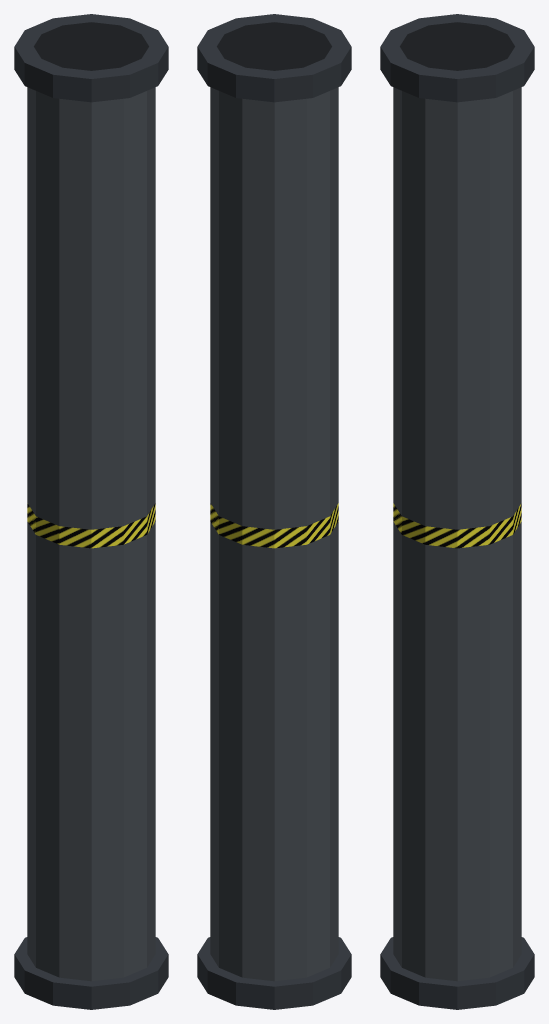
Rendered from Pipe_0.25x2.fbx.
The picture shows the model from 3 angles, left to right: view 1: azimuth 30°, elevation 25°; view 2: azimuth 150°, elevation 25°; view 3: azimuth 270°, elevation 25°; orthographic projection.
Parts seen in each view (by area): view 1: Pipe_0.25x2; view 2: Pipe_0.25x2; view 3: Pipe_0.25x2.
Part boxes in pixels (x1,y1,x2,y2): Pipe_0.25x2: (14,14,168,1009); Pipe_0.25x2: (197,14,351,1009); Pipe_0.25x2: (380,14,534,1009).
Size of the model in its own units: 30 by 200 by 30.
